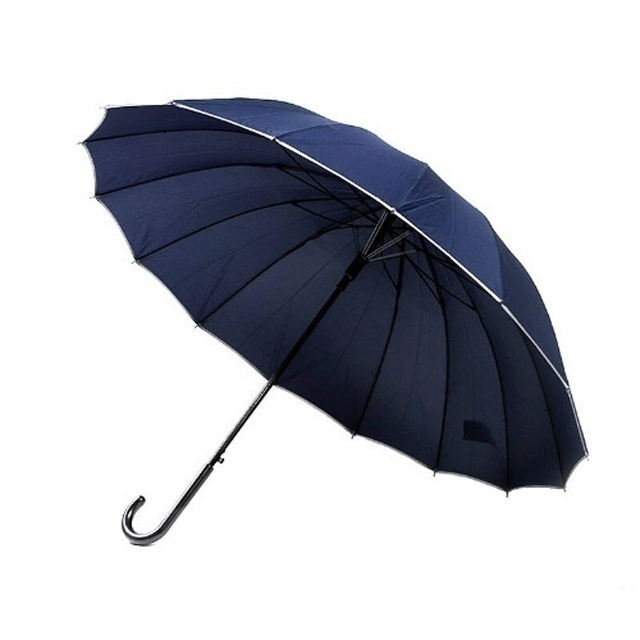umbrella: (74, 91, 599, 550)
